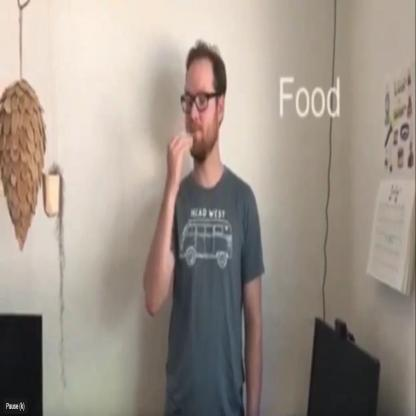Food: (156, 32, 238, 178)
